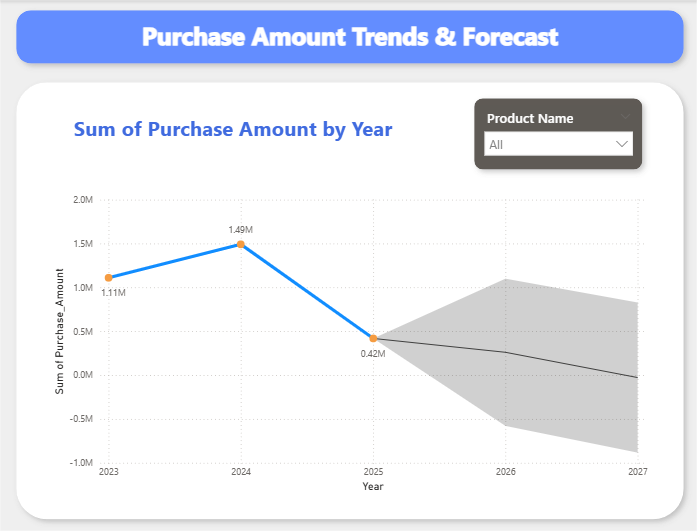

The dashboard page shown, as its layout file describes it:
{"tool":"powerbi","page":{"name":"Purchase Amount Trend and Forecast","canvas":[1280,720],"ordinal":1},"visuals":[{"type":"shape","box":[191.2,96.2,897.8,596.2],"z":0},{"type":"shape","box":[191.1,1.9,897.8,93.8],"z":1000},{"type":"shape","box":[790.9,116.4,244.2,117.4],"z":2000,"group":"g1"},{"type":"lineChart","fields":{"Category":["retail_sales_customer_satisfact.Purchase_Date.Variation.Date Hierarchy.Year","retail_sales_customer_satisfact.Purchase_Date.Variation.Date Hierarchy.Quarter","retail_sales_customer_satisfact.Purchase_Date.Variation.Date Hierarchy.Month","retail_sales_customer_satisfact.Purchase_Date.Variation.Date Hierarchy.Day"],"Y":["Sum(retail_sales_customer_satisfact.Purchase_Amount)"]},"box":[245.8,247,788.6,401.4],"z":2000},{"type":"textbox","box":[353.2,18.6,573.6,59.4],"z":3000},{"type":"slicer","fields":{"Values":["retail_sales_customer_satisfact.Product_Name"]},"box":[806.3,137.3,214,69.8],"z":3000,"group":"g1"},{"type":"group","id":"g1","title":"Group 1","box":[790.9,116.4,243.5,117.6],"z":4000},{"type":"textbox","box":[273.1,143.7,482.2,55.8],"z":4001}]}

Visuals, with their boxes on the page's 1280x720 design canvas (x1, y1, x2, y2). These are canvas units, not pixel positions in the 697x531 screenshot, which may show the page scaled, cropped or inside an application window:
shape: bbox(191, 96, 1089, 692)
shape: bbox(191, 2, 1089, 96)
shape: bbox(791, 116, 1035, 234)
lineChart - retail_sales_customer_satisfact.Purchase_Date.Variation.Date Hierarchy.Year x retail_sales_customer_satisfact.Purchase_Date.Variation.Date Hierarchy.Quarter: bbox(246, 247, 1034, 648)
textbox: bbox(353, 19, 927, 78)
slicer - retail_sales_customer_satisfact.Product_Name: bbox(806, 137, 1020, 207)
"Group 1" group: bbox(791, 116, 1034, 234)
textbox: bbox(273, 144, 755, 200)
